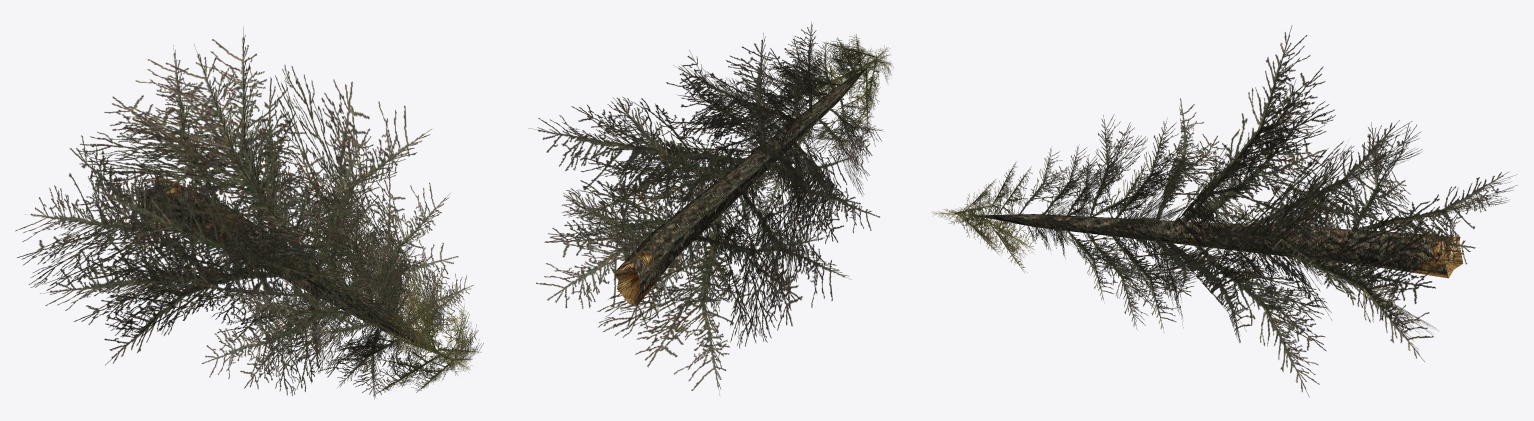
Rendered from tree4_17g.glb.
3 views of the same model, side by side, from view 1: azimuth 30°, elevation 25°; view 2: azimuth 150°, elevation 25°; view 3: azimuth 270°, elevation 25° (orthographic). The views are drawn at different scales.
Parts seen in each view (by area): view 1: tree4_17g-col; view 2: tree4_17g-col; view 3: tree4_17g-col.
Boxes of the visible parts, x1,y1,x2,y2 form: tree4_17g-col: (15, 27, 483, 399); tree4_17g-col: (528, 22, 893, 395); tree4_17g-col: (932, 25, 1517, 397).
Bounding box in the file's own units: 11.72 × 10.77 × 17.4.
4 materials, 4 textured.
